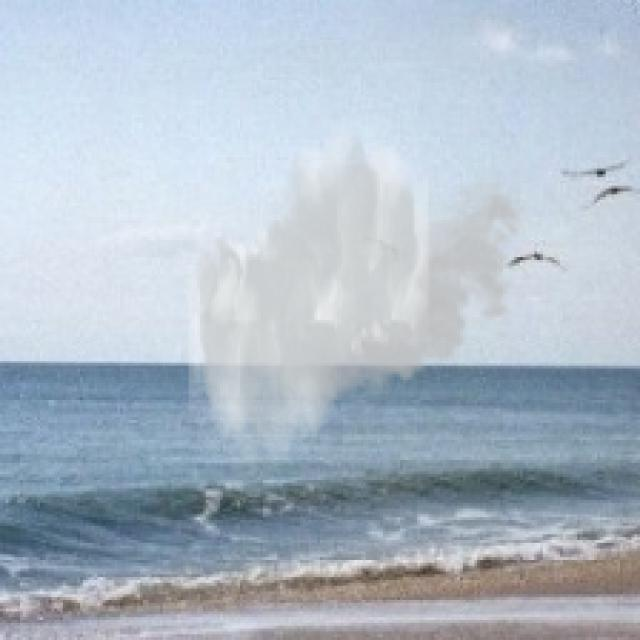smoke: (188, 114, 532, 469)
